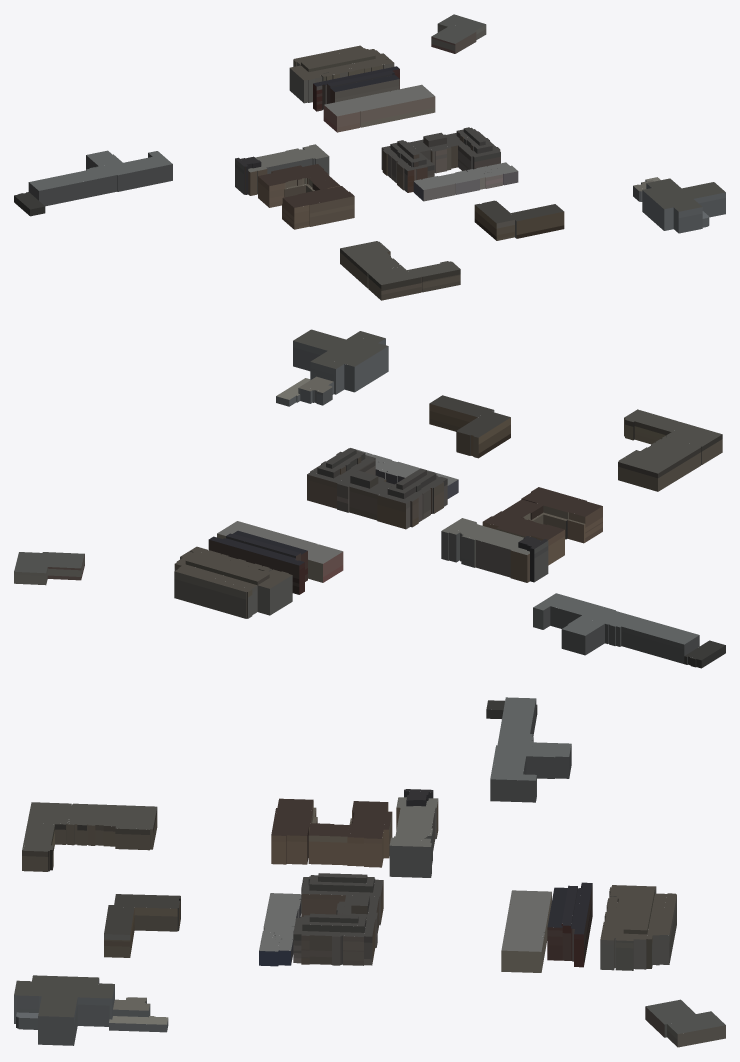
File: t_-2_-4.far.glb
3 renders of one model, top to bottom at view 1: azimuth 30°, elevation 25°; view 2: azimuth 150°, elevation 25°; view 3: azimuth 270°, elevation 25°, orthographic. The views are drawn at different scales.
Parts seen in each view (by area): view 1: opaque; view 2: opaque; view 3: opaque.
Boxes of the visible parts, x1=… form: opaque: x1=14, y1=14, x2=725, y2=300; opaque: x1=14, y1=329, x2=725, y2=668; opaque: x1=14, y1=697, x2=725, y2=1047.
Size of the model in its own units: 288 by 15.94 by 256.
Materials: 1 (1 with a texture image).
